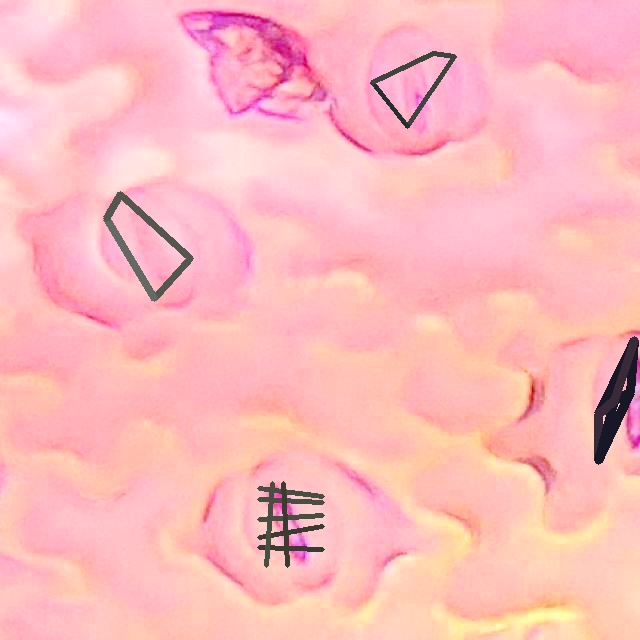open: (103, 191, 193, 300), (370, 51, 456, 128), (257, 481, 324, 567), (594, 336, 634, 463)
